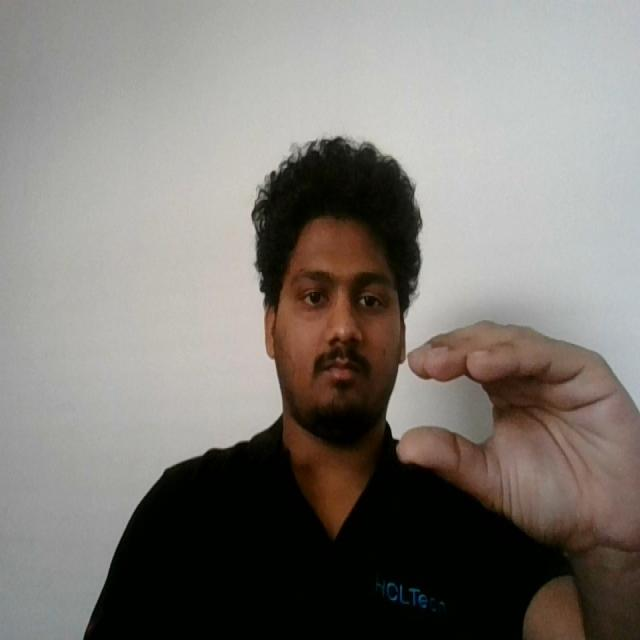No: (393, 312, 640, 560)
